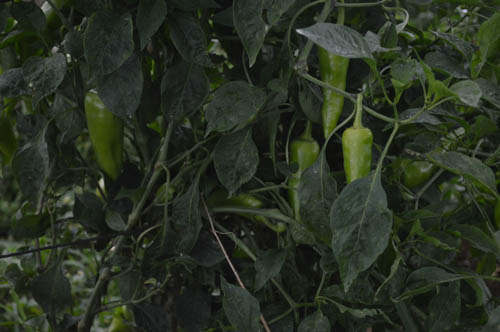ChiliPepper: (402, 131, 470, 181), (84, 90, 123, 175), (315, 45, 349, 140), (282, 139, 317, 210), (342, 129, 375, 181)
